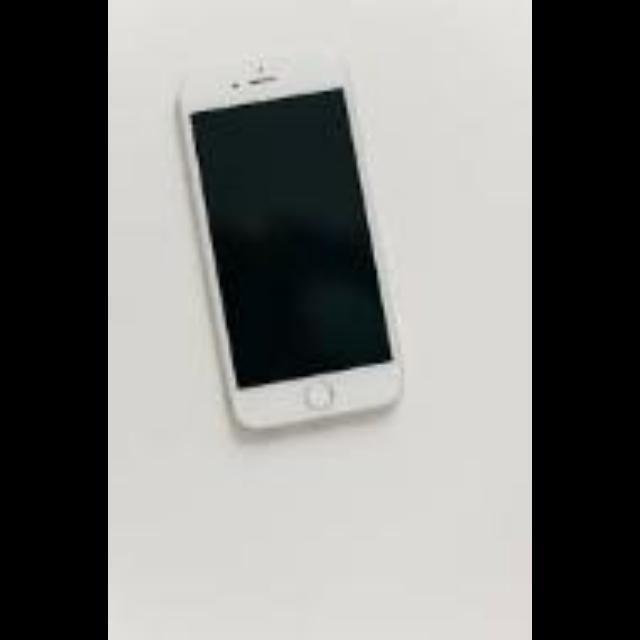phone: (187, 80, 395, 422)
